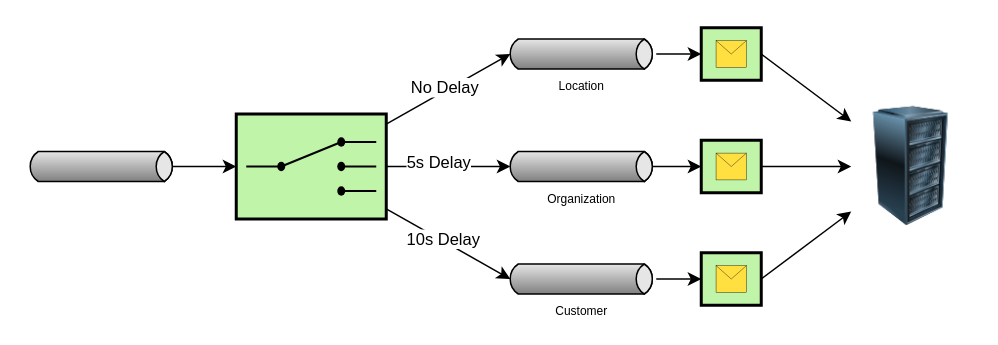
This 998x345 diagram has some shape labels left out. The shapes that lost their labels are listed below. From the top down, each one's centre as x and y in pixels, then its label:
the point at 100,166: Source Messaging Service
the point at 910,166: Saas Solution
